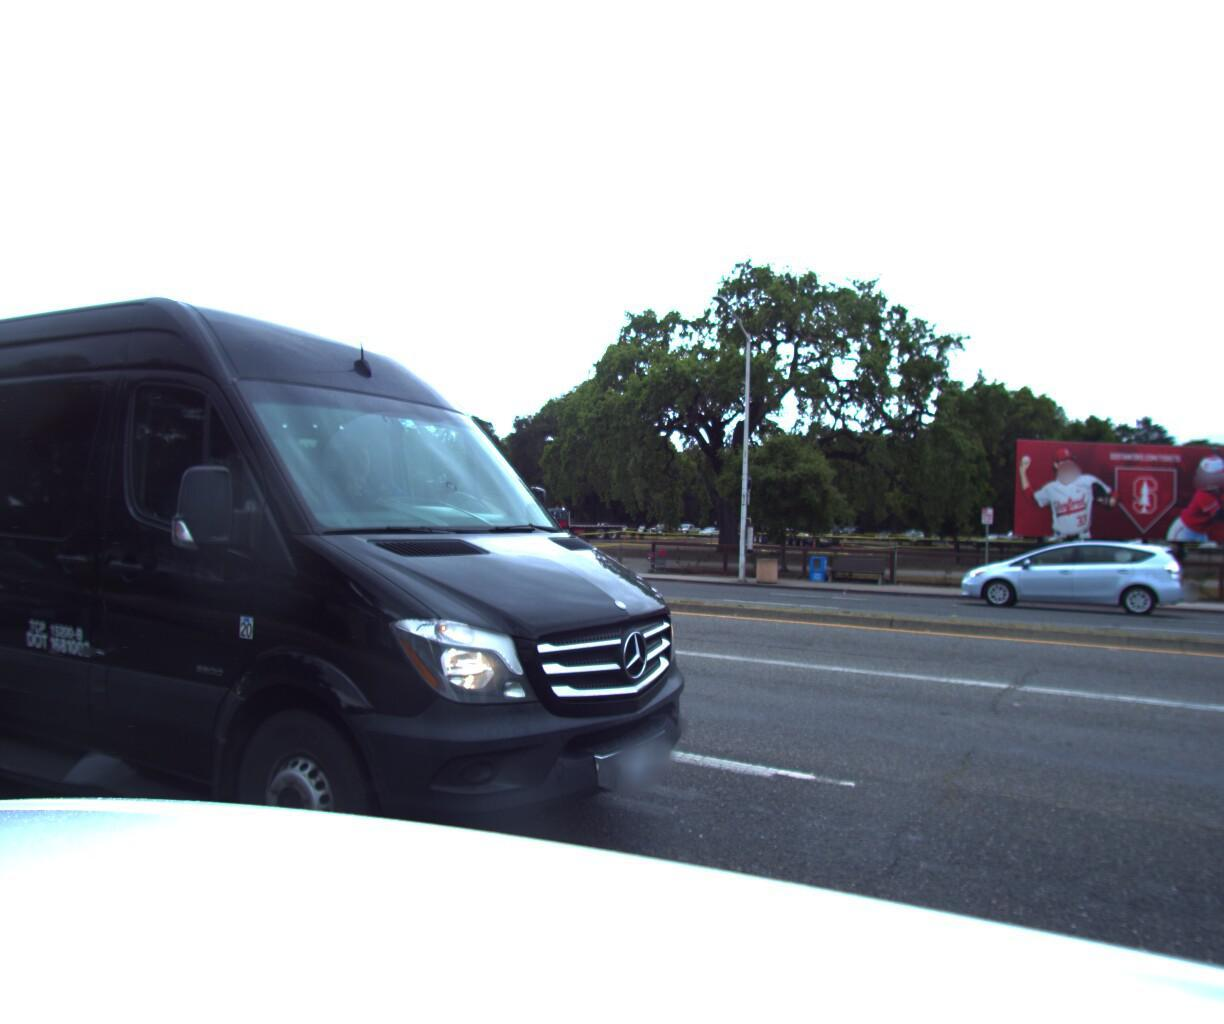car: (959, 538, 1198, 620)
other_vehicle: (0, 166, 757, 1024)
